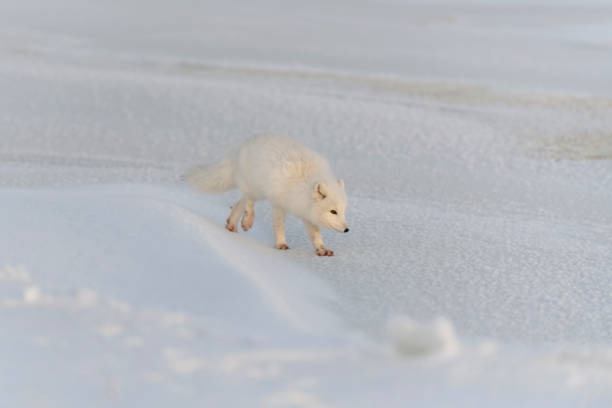arcticfox: (319, 180, 355, 237)
